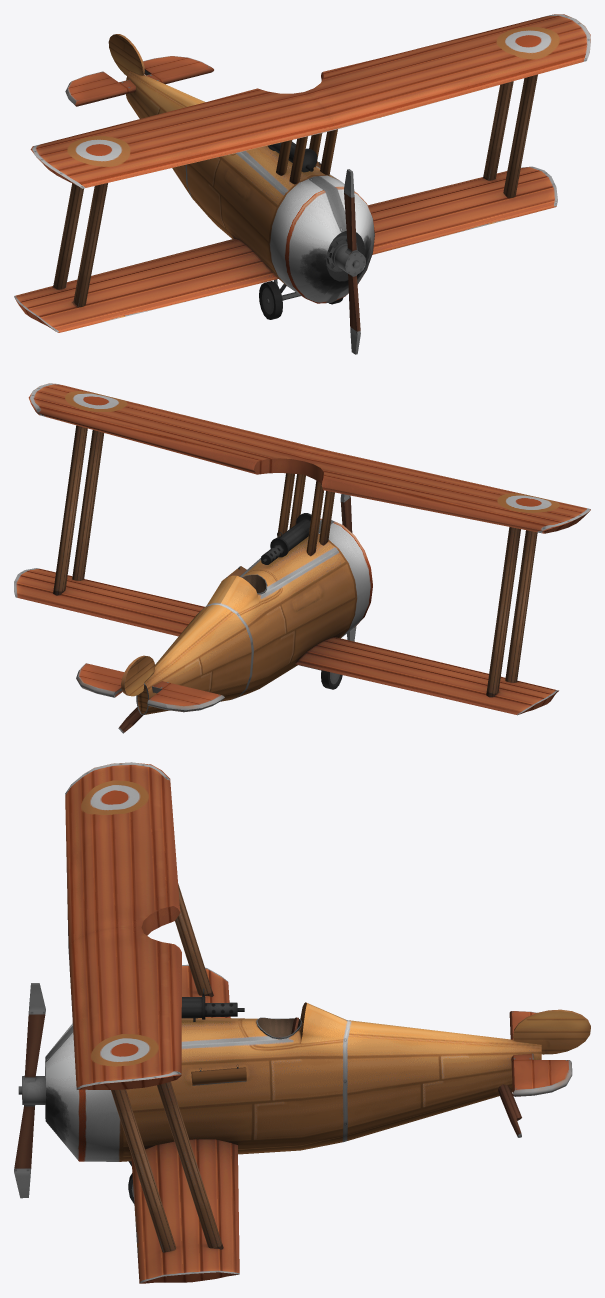
File: nieuport28.glb
3 views of the same model, one above another, from view 1: azimuth 30°, elevation 25°; view 2: azimuth 150°, elevation 25°; view 3: azimuth 270°, elevation 25° (orthographic). The views are drawn at different scales.
Parts seen in each view (by area): view 1: nieuport28; view 2: nieuport28; view 3: nieuport28.
Part boxes in pixels (x1,y1,x2,y2): nieuport28: (14,14,590,354); nieuport28: (14,383,590,733); nieuport28: (14,762,590,1283).
Size of the model in its own units: 1 by 0.4036 by 0.7661.
Materials: 1 (1 with a texture image).
